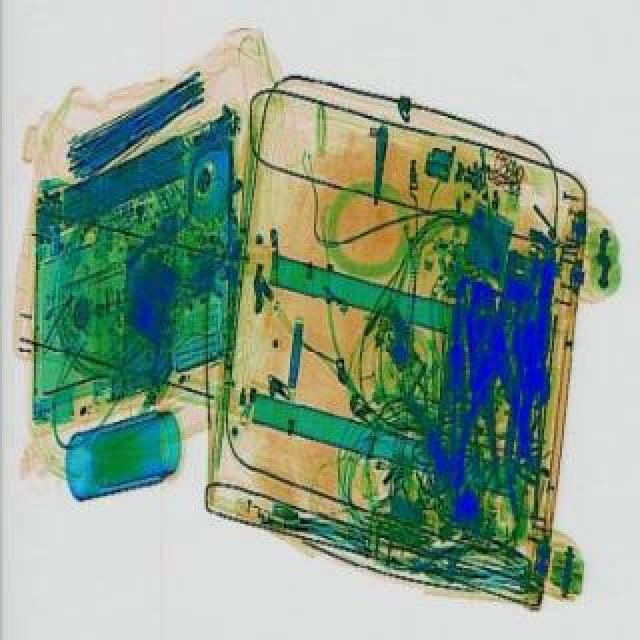wrench: (460, 278, 532, 482)
